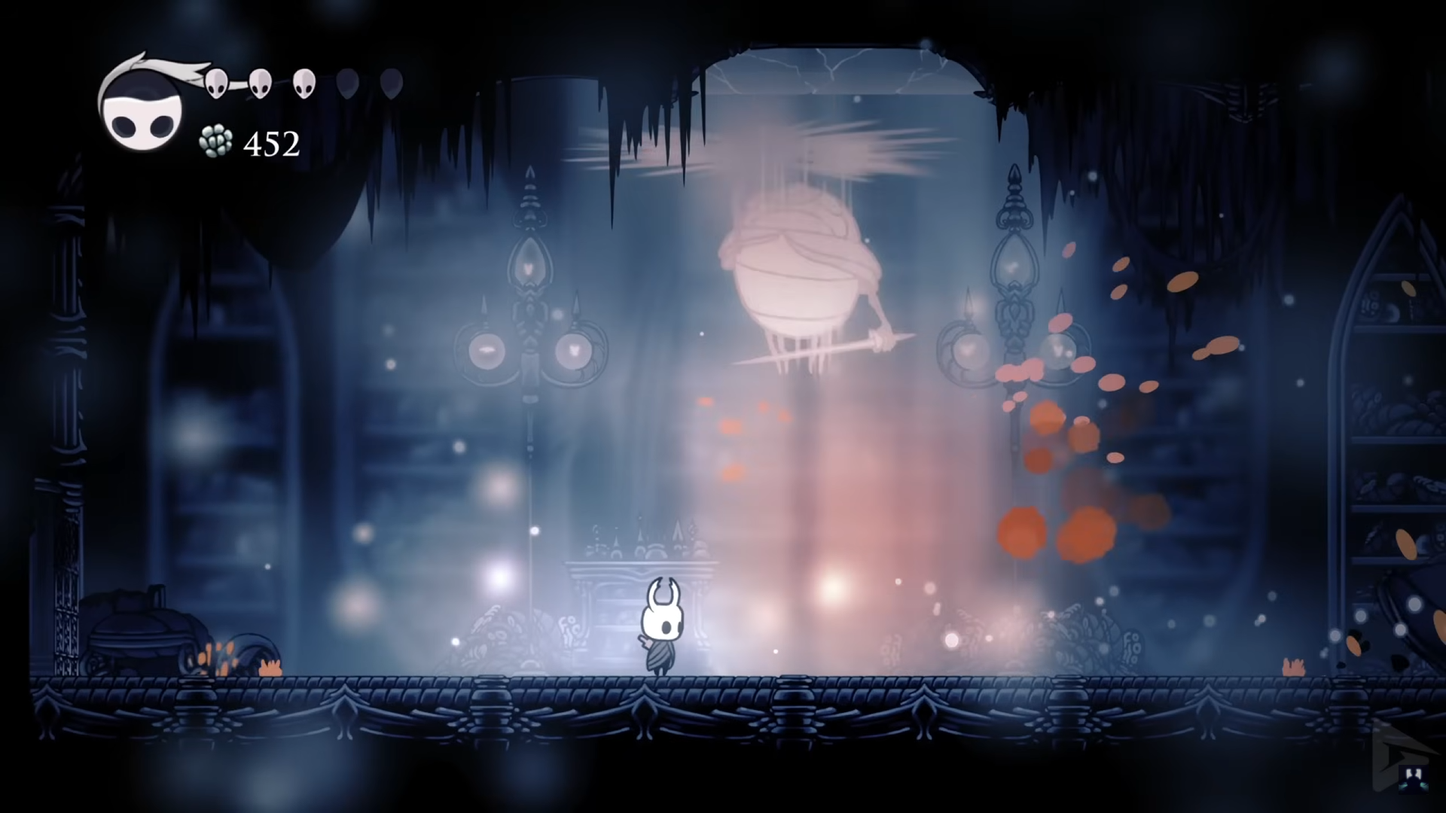HK: (630, 577, 693, 675)
